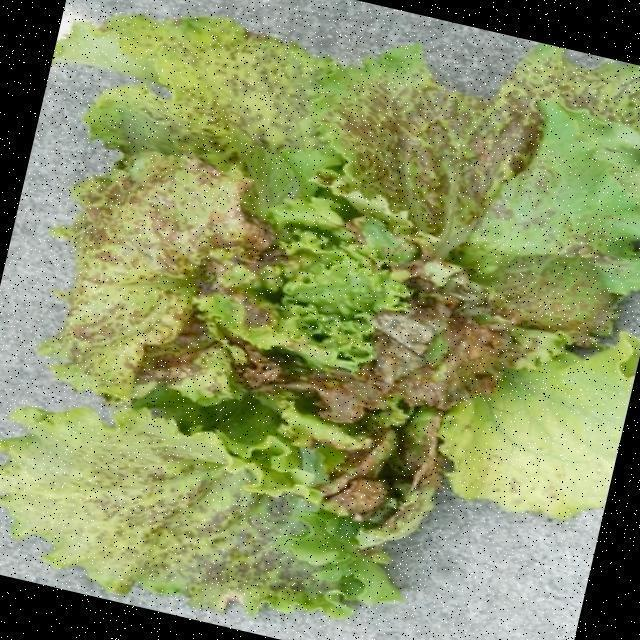Bad: (276, 198, 568, 543), (0, 406, 397, 639), (41, 153, 274, 400), (323, 63, 531, 249)
